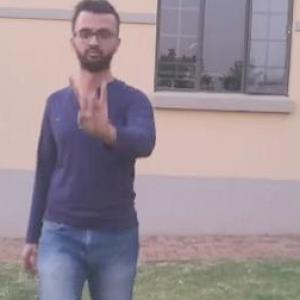takeoff-hand: (66, 66, 122, 142)
